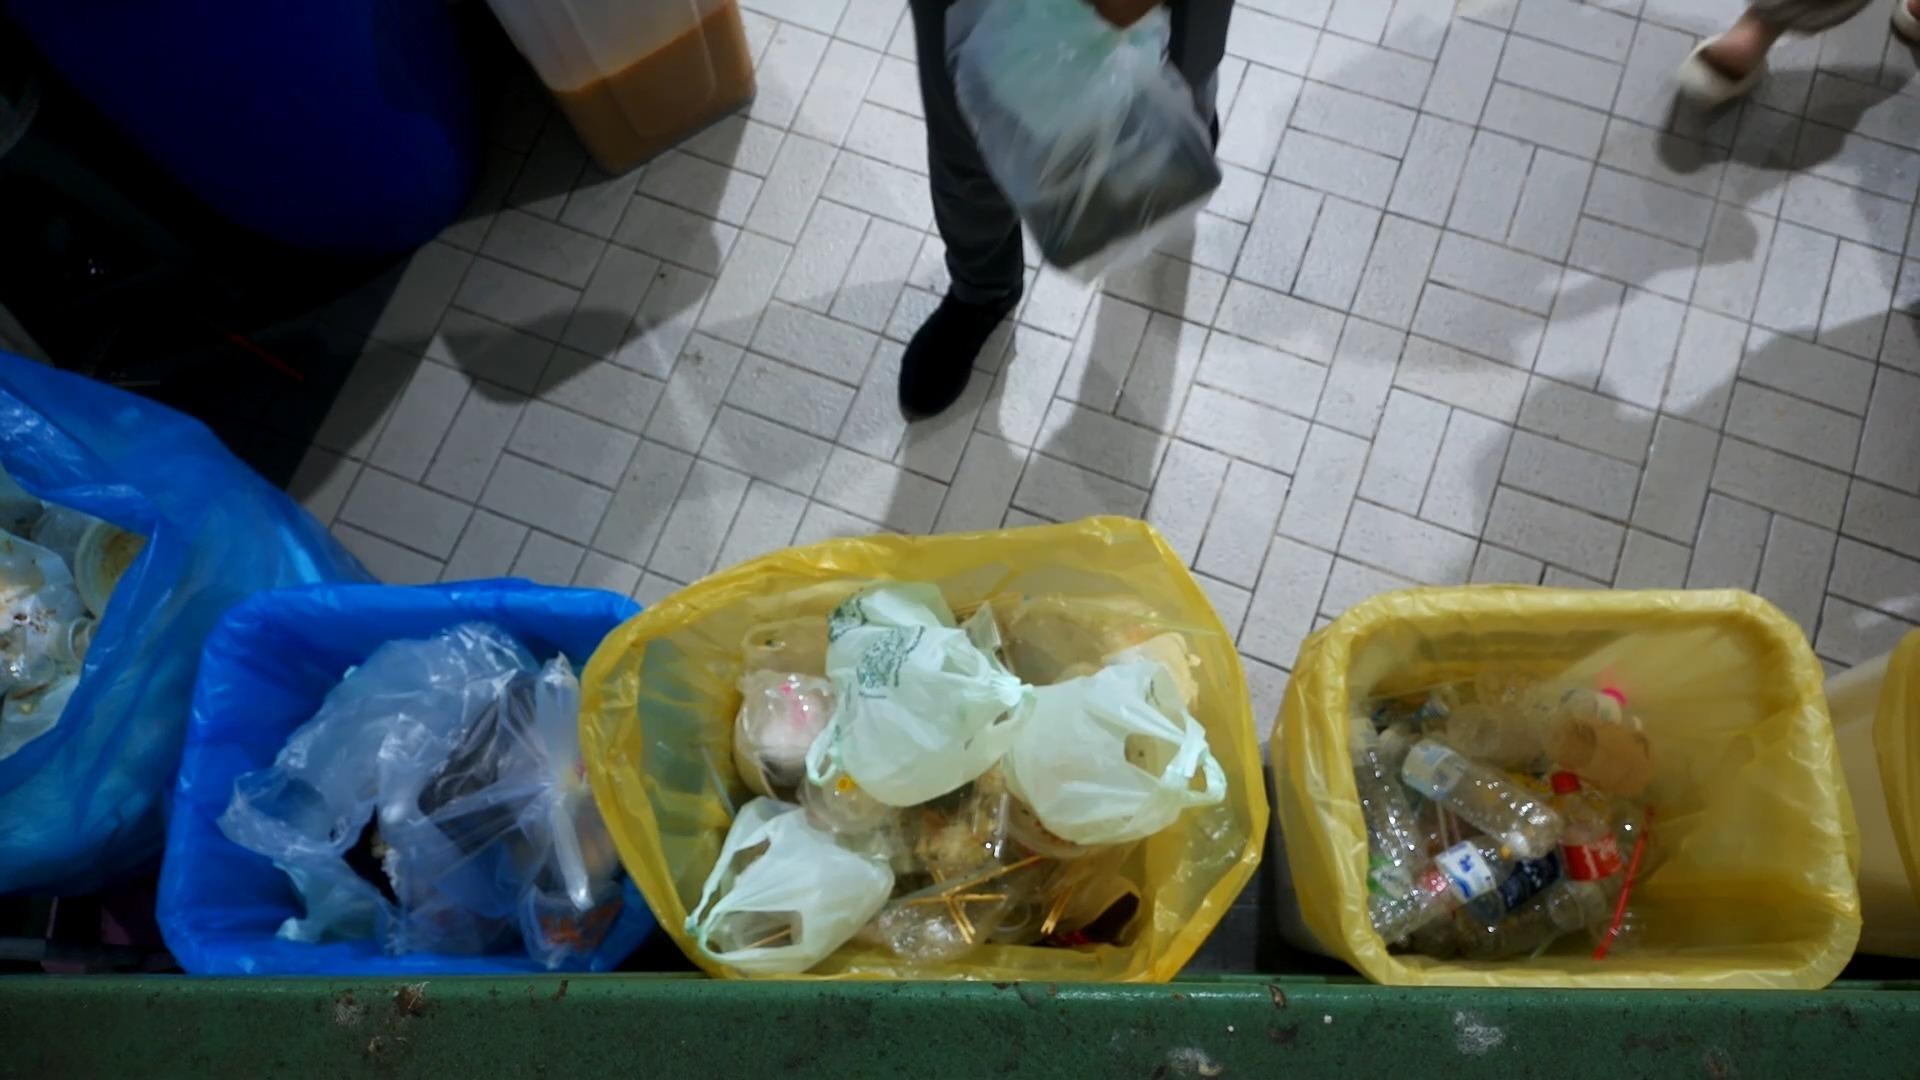dirty food container: (909, 774, 1010, 876)
filled plastic bag: (932, 0, 1237, 307), (365, 673, 622, 935), (837, 574, 1048, 814), (1011, 658, 1237, 858), (669, 793, 898, 984), (882, 872, 1027, 972)
plastic bag: (212, 622, 522, 870), (501, 825, 632, 988)
plastic bottle: (1379, 725, 1573, 862), (1364, 837, 1536, 961), (1336, 696, 1436, 874), (1549, 765, 1629, 932)
plastic cup: (725, 657, 832, 779)
sticks: (903, 851, 1051, 922), (935, 849, 985, 951), (1036, 876, 1076, 943)
straw: (1582, 783, 1687, 955)
